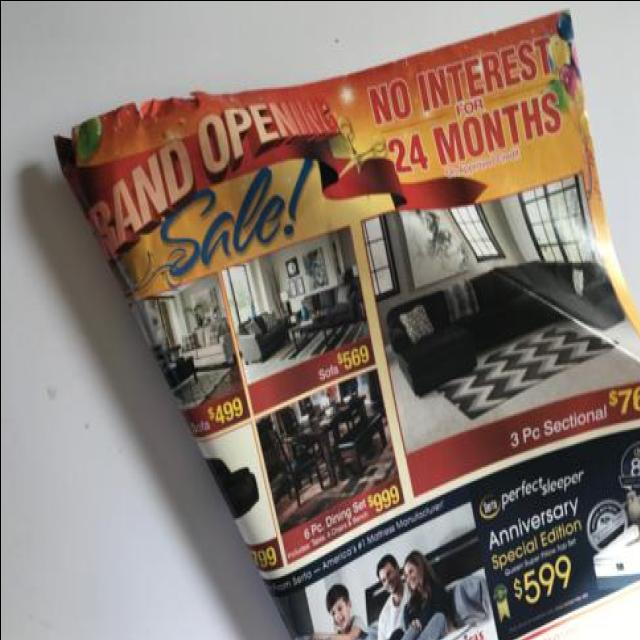kertas: (53, 10, 640, 640)
